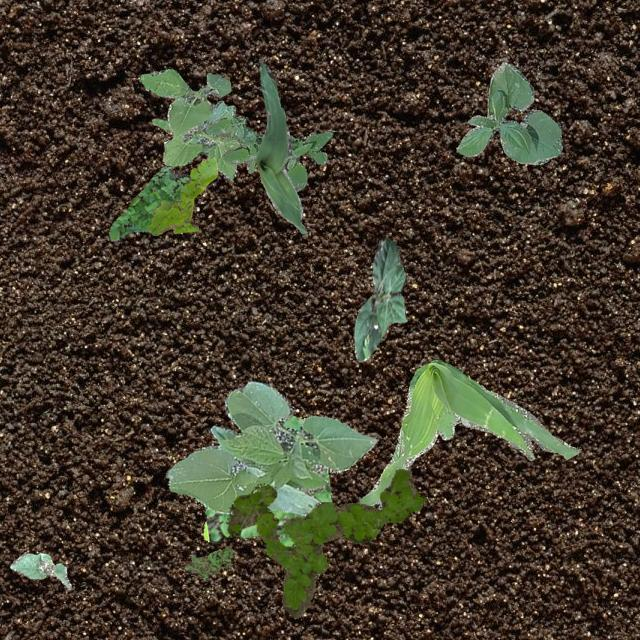crop: (166, 380, 377, 514), (456, 62, 562, 164), (253, 59, 306, 232), (354, 237, 406, 361), (8, 552, 70, 588)
weed: (358, 358, 580, 508), (225, 468, 426, 618), (202, 414, 330, 546), (140, 68, 238, 178), (205, 114, 332, 190), (109, 166, 190, 240), (146, 156, 217, 234), (183, 546, 234, 578), (150, 116, 172, 134)
